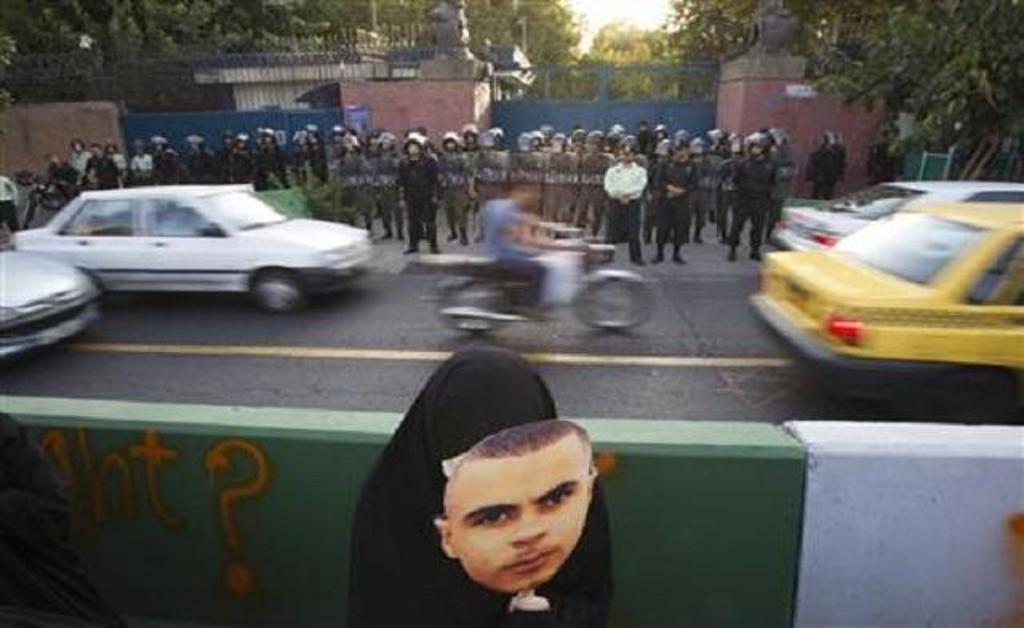face: (457, 457, 587, 589)
